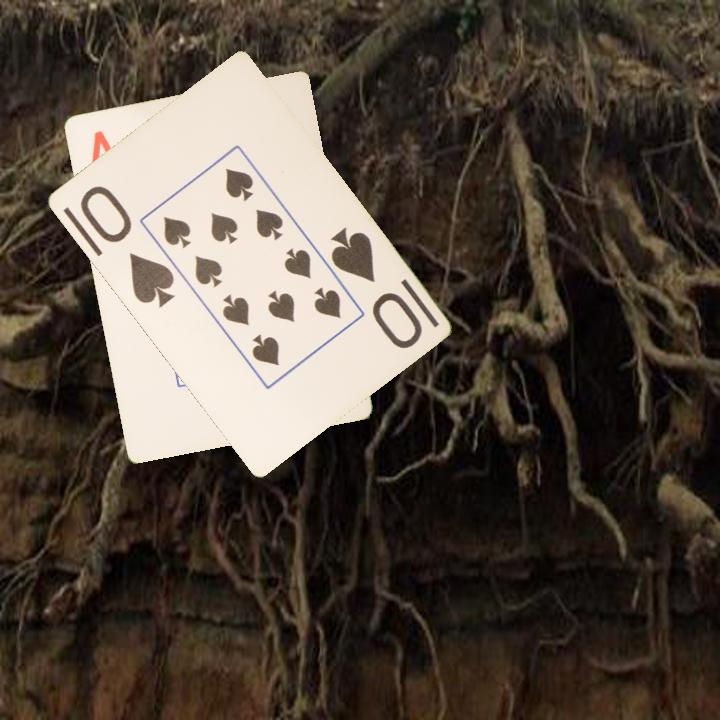10s: (75, 181, 177, 311), (326, 223, 425, 352)
